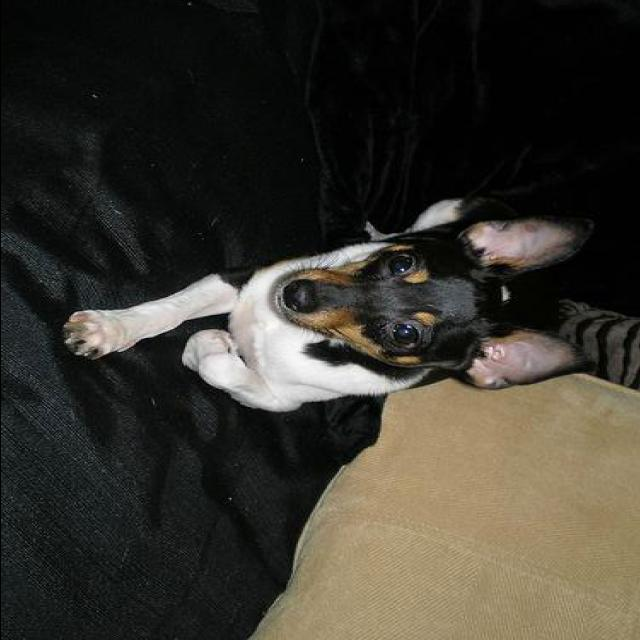toy_terrier: (56, 193, 588, 416)
